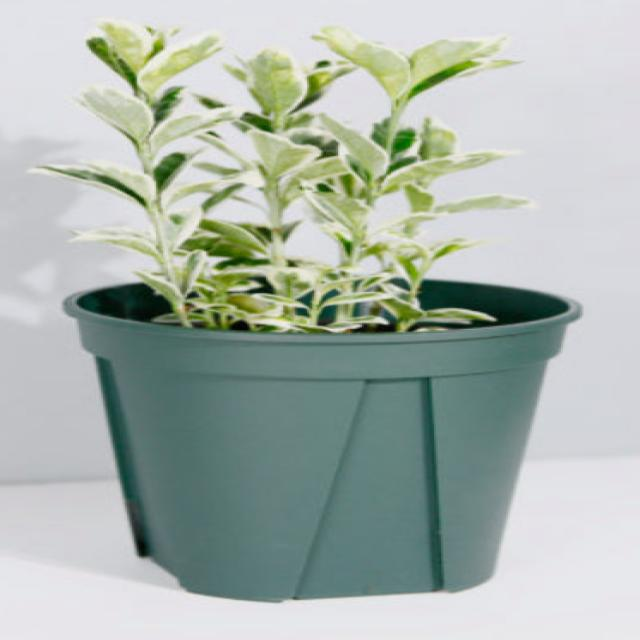Plant Pot: (54, 270, 594, 615)
